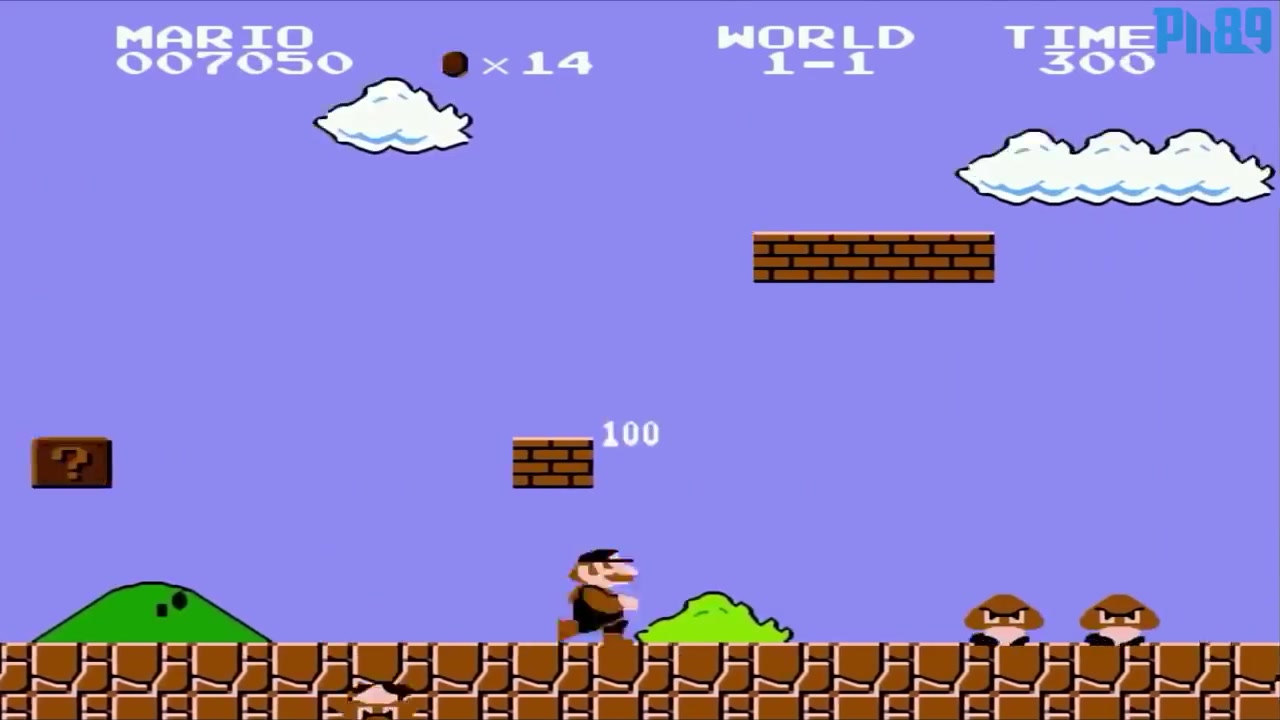mario: (540, 541, 644, 645)
